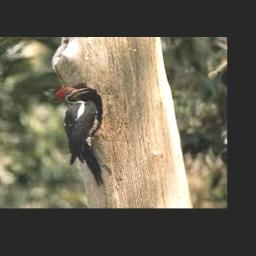Woodpecker: (56, 86, 104, 186)
